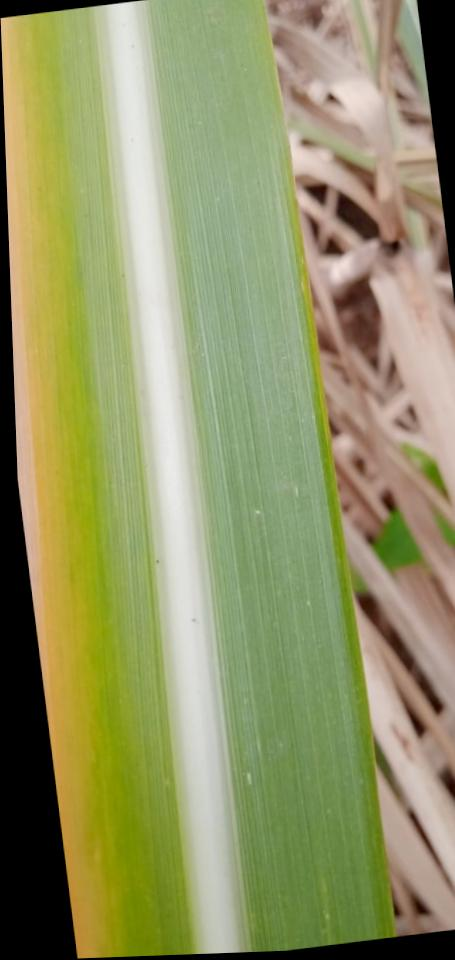Yellow: (1, 17, 103, 958)
